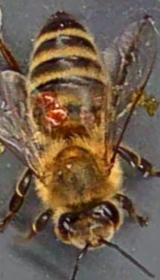varroa_mite: (37, 82, 63, 106), (41, 105, 68, 127)
